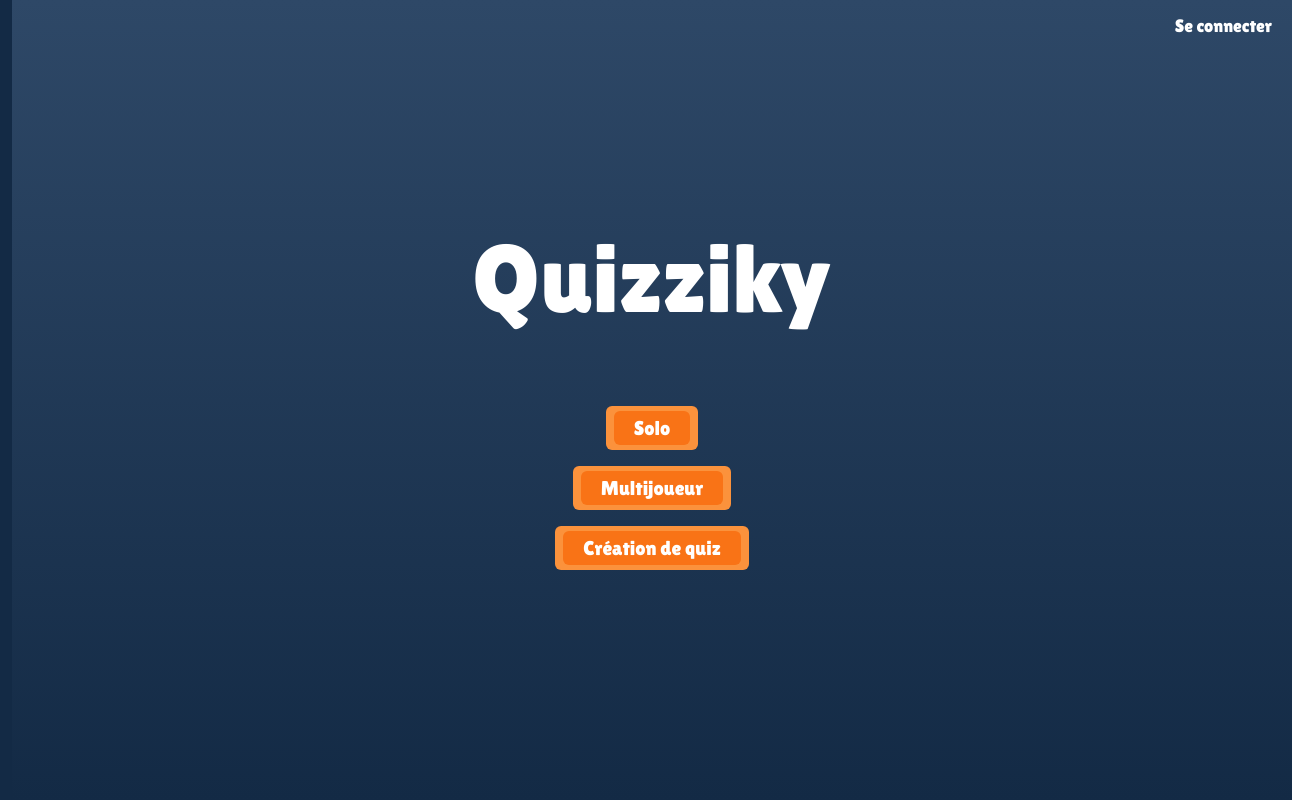
Test: Page d'inscription › Affiche la page d'inscription
Click the link "Se connecter".
click(1224, 26)  # box 1175,15 -> 1272,36
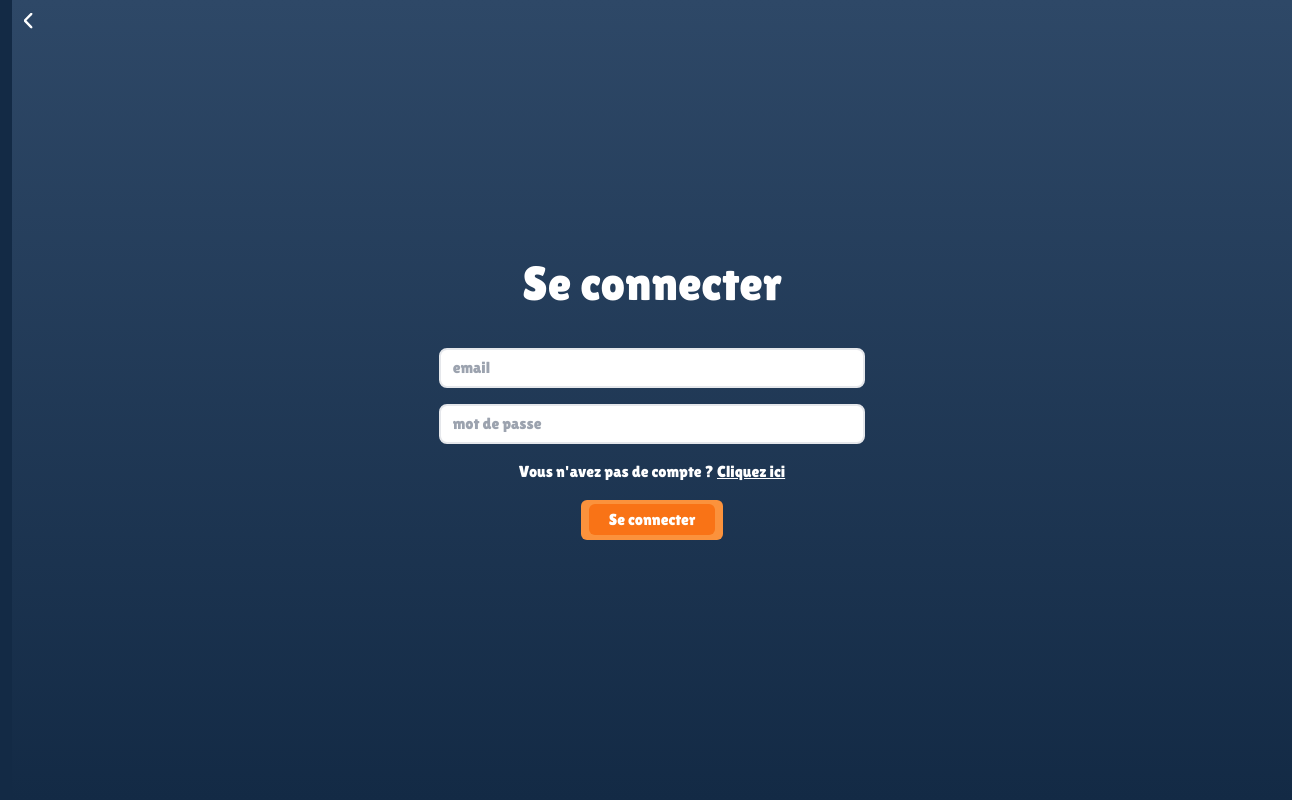
Click the link "Vous n'avez pas de compte ? Cliquez ici".
click(652, 472)  # box 519,460 -> 785,484
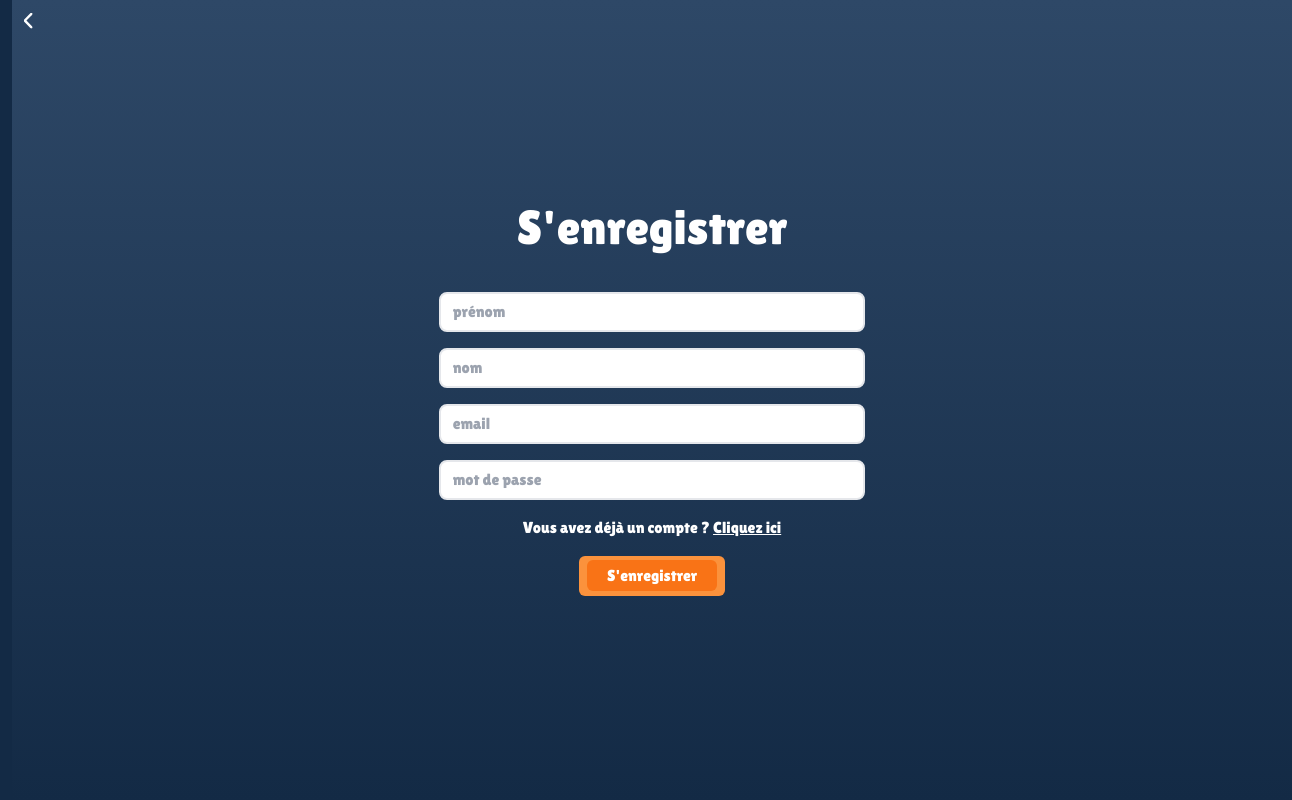
expect the heading "S'enregistrer" is shown: met, box 517,204 -> 787,252
